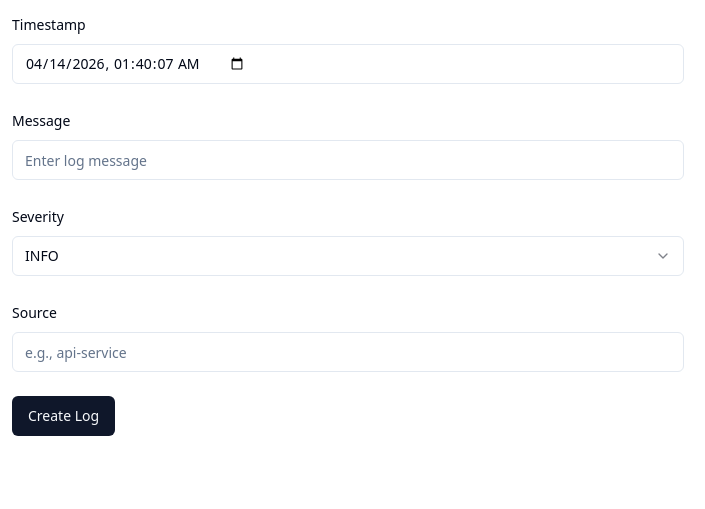
Test case: CreateForm › shows validation error for empty source
Note: Clear the source field and submit
Step 1. Clear the field labelled "Source" → (348,352), box [12,332,684,372]
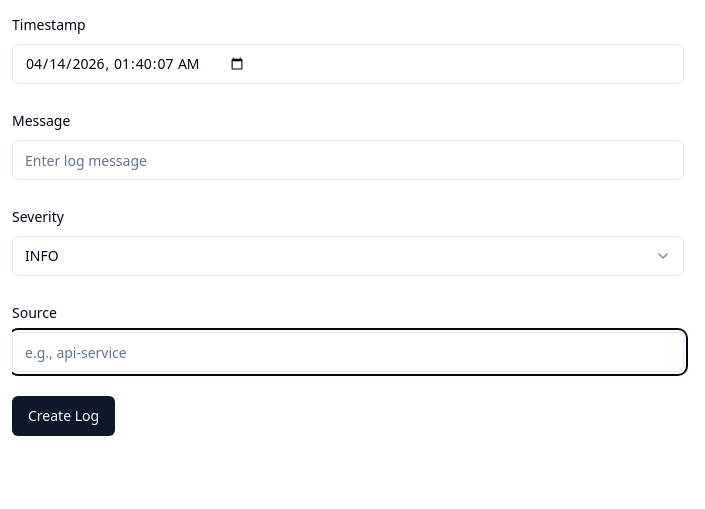
Step 2. Click the button "Create Log" → (64,416), box [12,396,115,436]
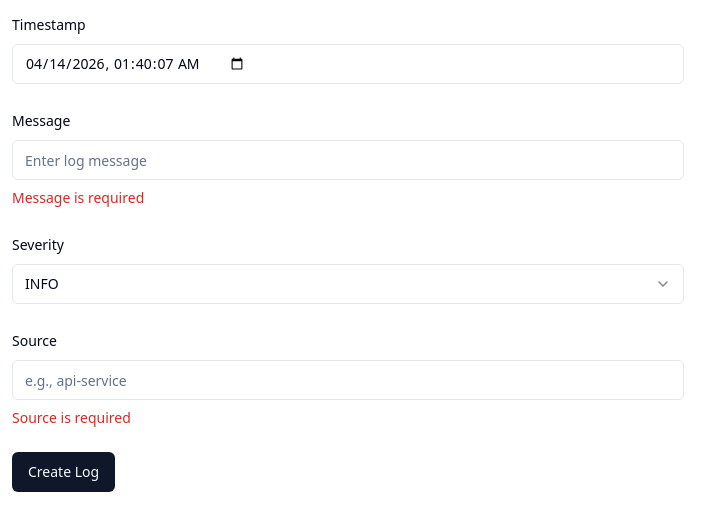
Expected: the text "Source is required" is shown, [12,408,131,427]
